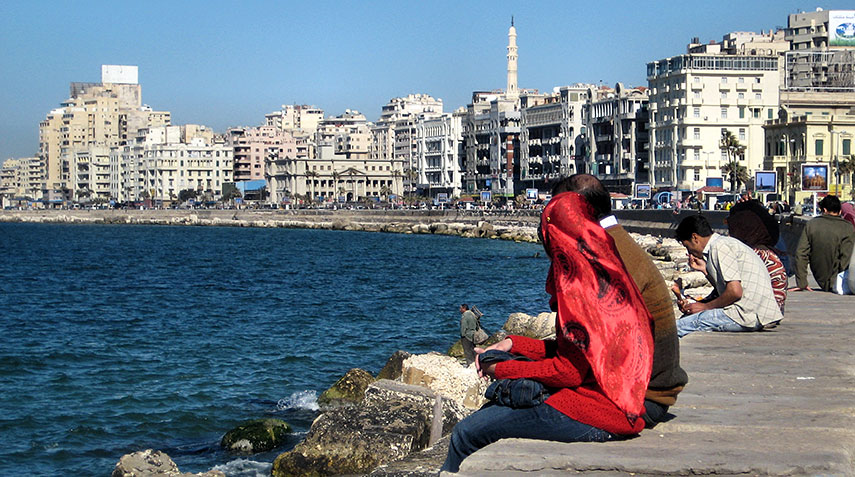person: (438, 166, 688, 471), (686, 194, 813, 346), (807, 195, 853, 314), (457, 296, 477, 356)
